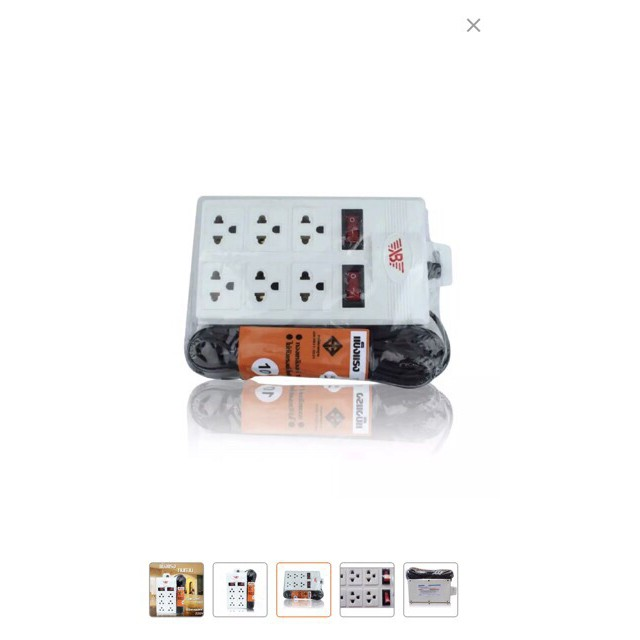Three_eye_plug: (180, 187, 461, 358)
